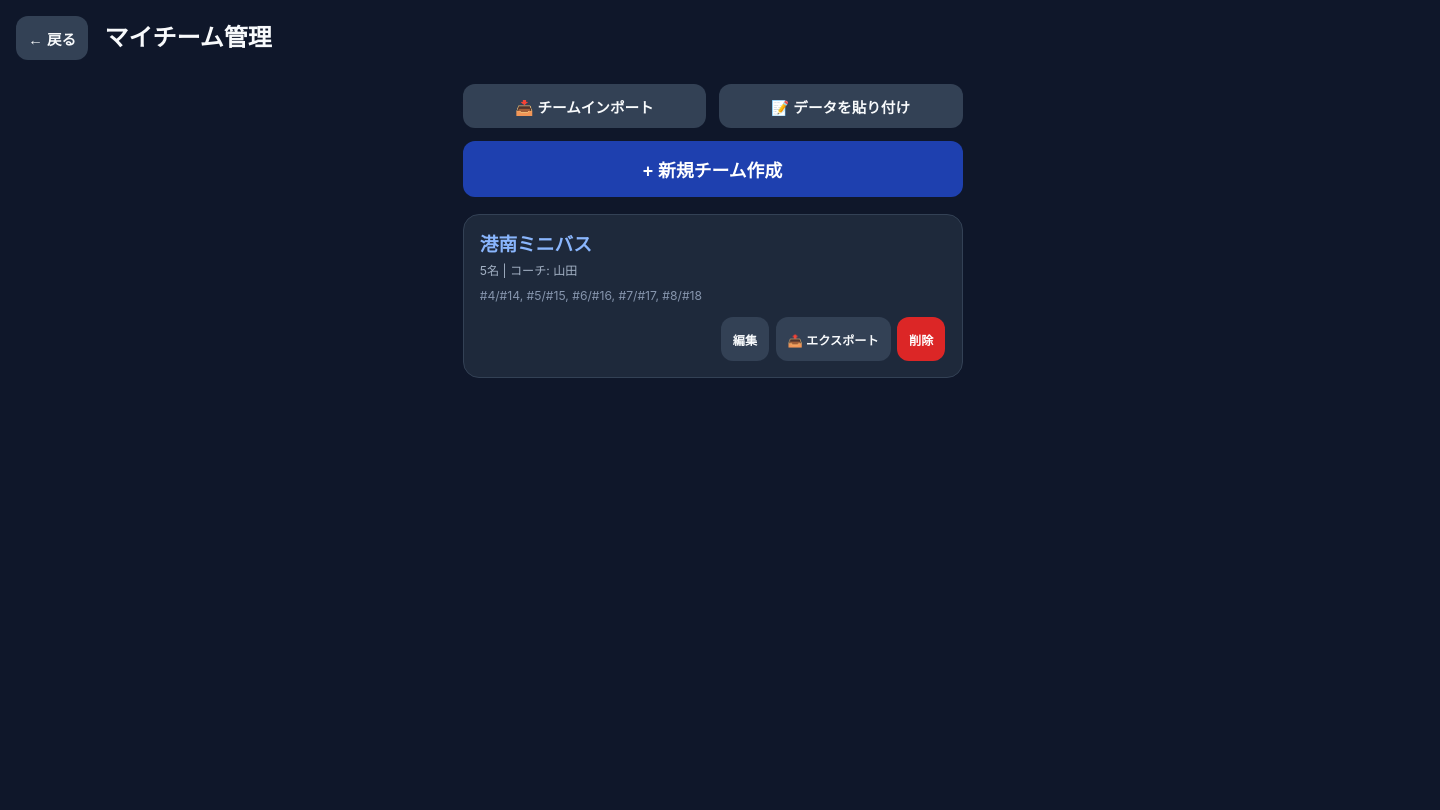
Test case: MyTeamManager: 選手の追加 › 未入力のうちは「追加」ボタンが押せない（何が足りないかは欄を見れば分かる）
The image size is (1440, 810).
Click the button "編集": (745, 339) [721,317,769,361]
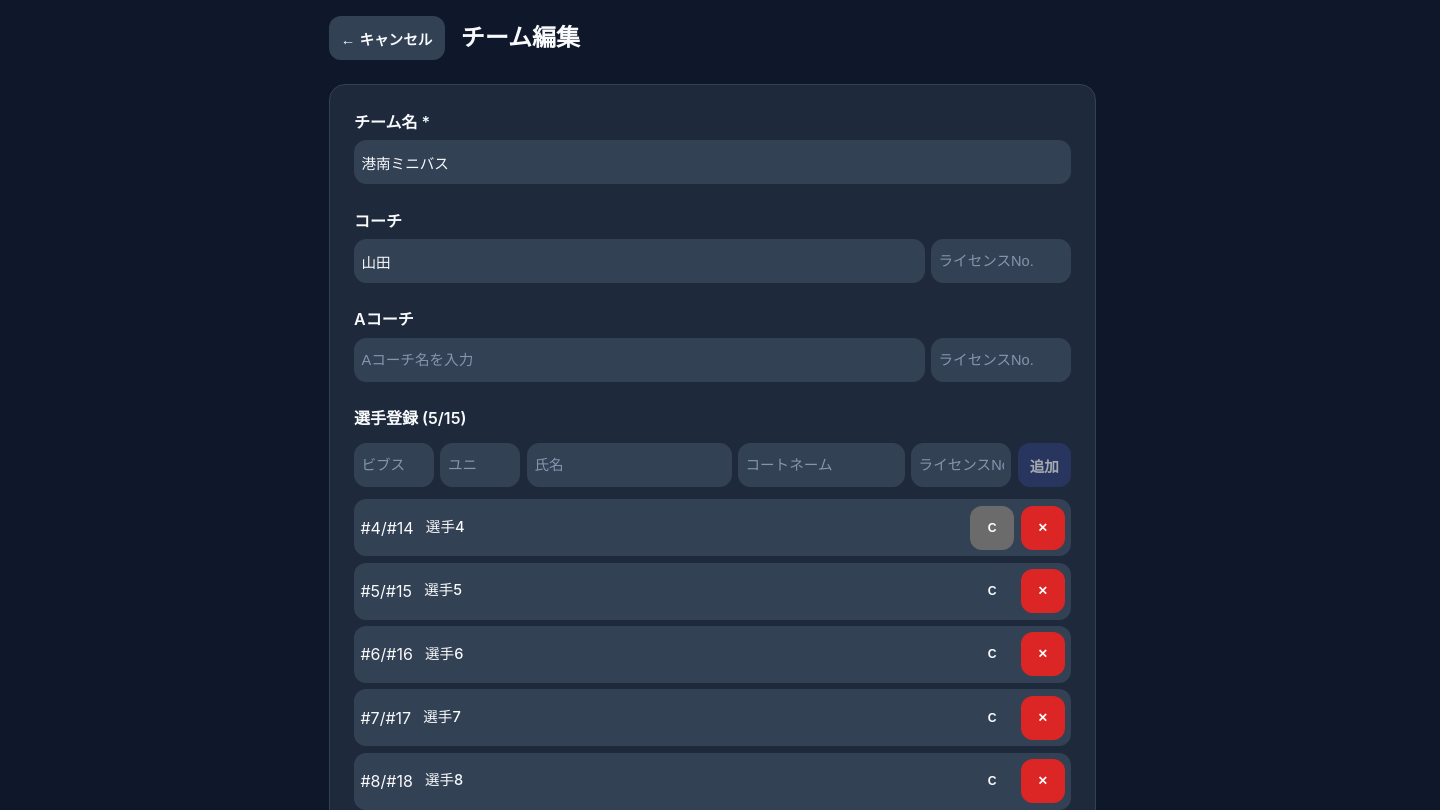
Result: the button "追加" is disabled at [1018,443,1071,487]
In the field named "選手名": (629, 465) [527,443,732,487], type "番号なし"
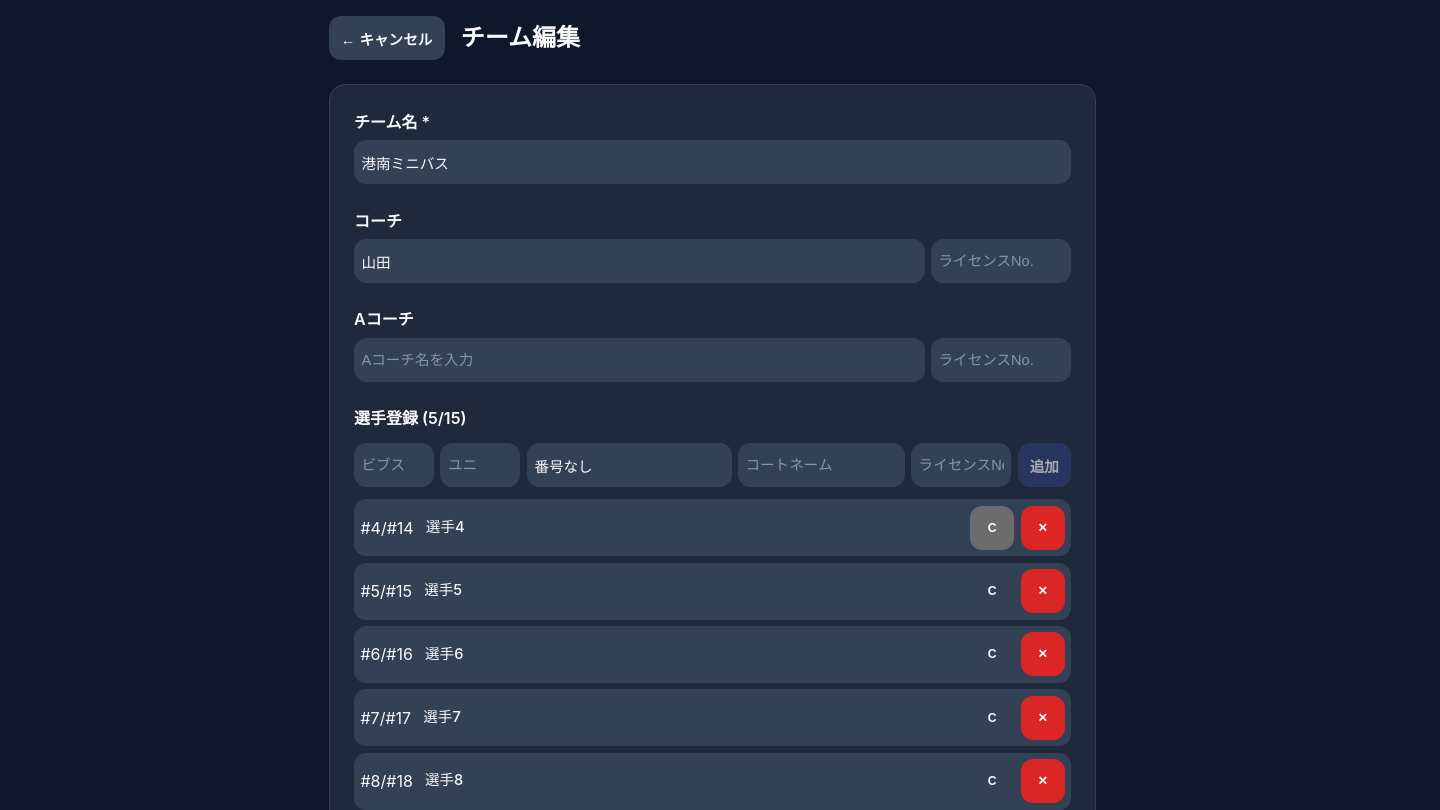
Result: the button "追加" is disabled at [1018,443,1071,487]
In the field named "ビブス番号": (394, 465) [354,443,434,487], type "9"
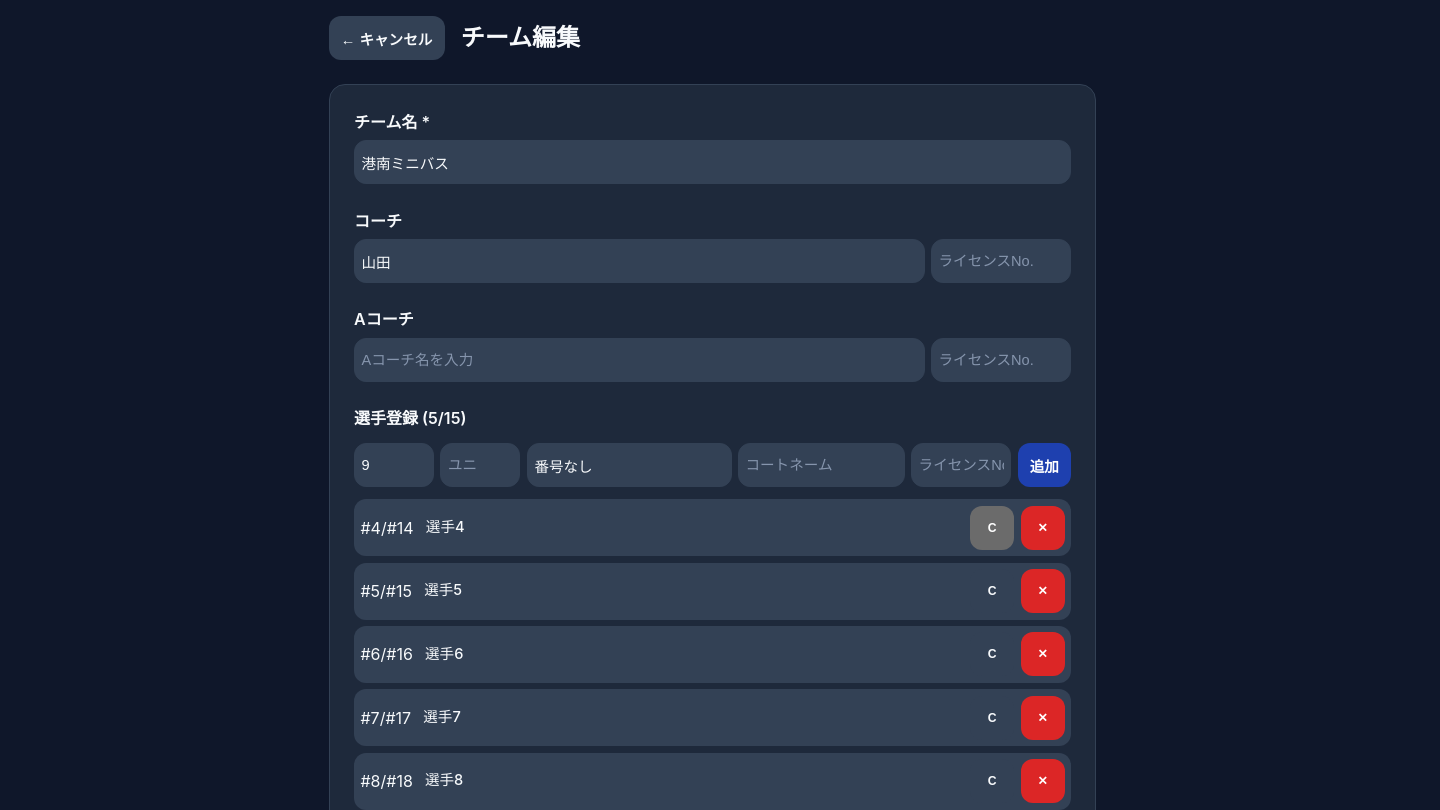
Result: the button "追加" is enabled at [1018,443,1071,487]
